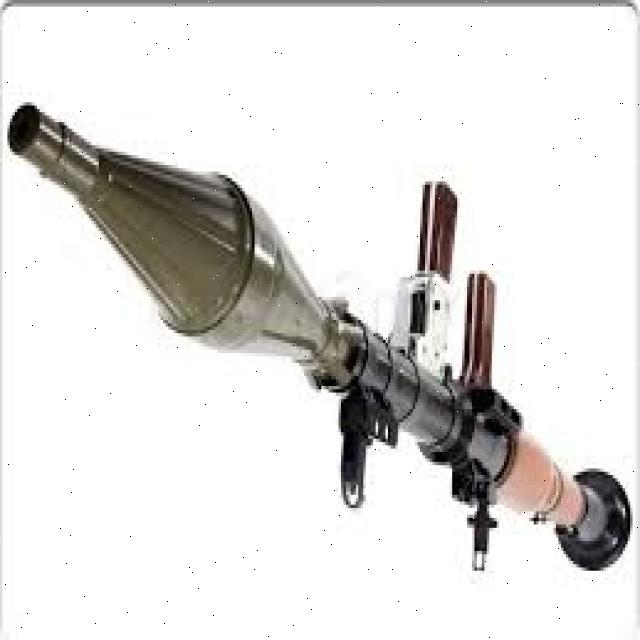bazooka: (4, 91, 639, 592)
